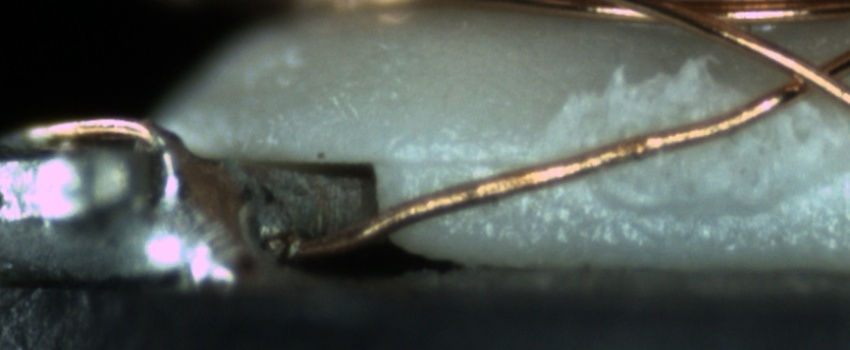CL: (766, 43, 849, 106)
DL: (405, 126, 553, 191)
TE: (19, 112, 178, 153)
